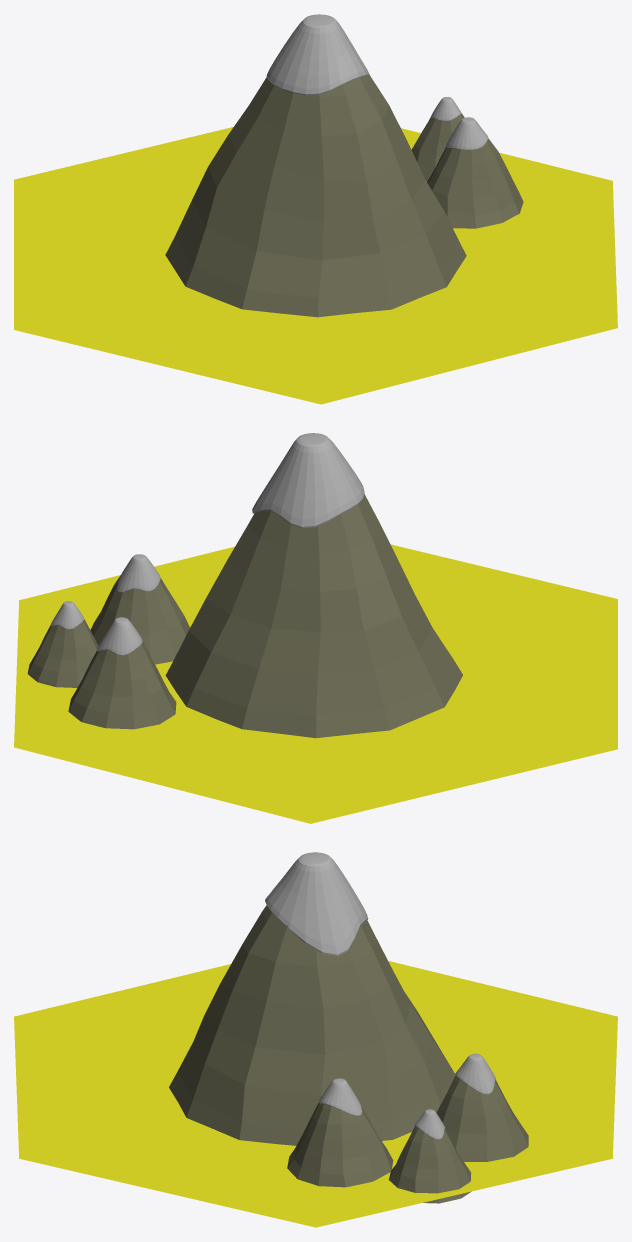
The model's file is Tatles1.fbx_Titel_Gori_V1.fbx.
3 views of the same model, one above another, from view 1: azimuth 30°, elevation 25°; view 2: azimuth 150°, elevation 25°; view 3: azimuth 270°, elevation 25° (orthographic).
Parts seen in each view (by area): view 1: 6 granik.002, Gori_v1; view 2: 6 granik.002, Gori_v1; view 3: 6 granik.002, Gori_v1.
Boxes of the visible parts, x1,y1,x2,y2 form: 6 granik.002: (14, 127, 617, 404); Gori_v1: (165, 14, 523, 317); 6 granik.002: (14, 544, 617, 823); Gori_v1: (27, 433, 462, 738); 6 granik.002: (14, 961, 617, 1227); Gori_v1: (169, 852, 528, 1203).
Bounding box in the file's own units: 18.21 × 7.34 × 16.18.
